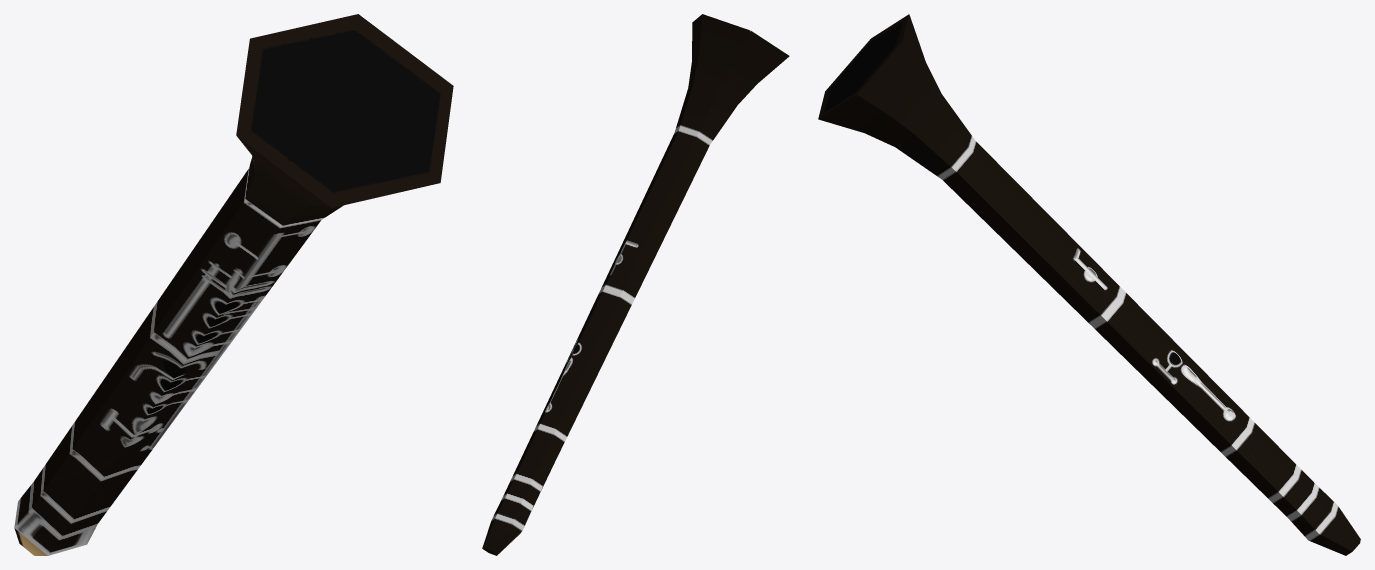
File: flauta3_000005.obj
The picture shows the model from 3 angles, left to right: view 1: azimuth 30°, elevation 25°; view 2: azimuth 150°, elevation 25°; view 3: azimuth 270°, elevation 25°; orthographic projection. The views are drawn at different scales.
Parts seen in each view (by area): view 1: f3_Flauta_3:Flauta_2:Flauta_1:pCylinder3; view 2: f3_Flauta_3:Flauta_2:Flauta_1:pCylinder3; view 3: f3_Flauta_3:Flauta_2:Flauta_1:pCylinder3.
Part boxes in pixels (x1,y1,x2,y2): f3_Flauta_3:Flauta_2:Flauta_1:pCylinder3: [14, 14, 453, 555]; f3_Flauta_3:Flauta_2:Flauta_1:pCylinder3: [482, 14, 789, 555]; f3_Flauta_3:Flauta_2:Flauta_1:pCylinder3: [818, 14, 1360, 555].
Bounding box in the file's own units: 1.29 × 4.52 × 4.47.
